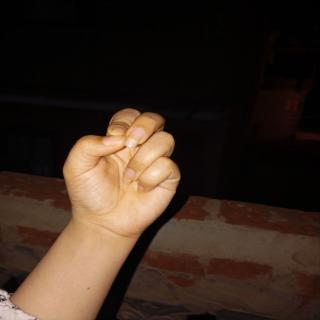QAAF: (56, 101, 192, 253)
